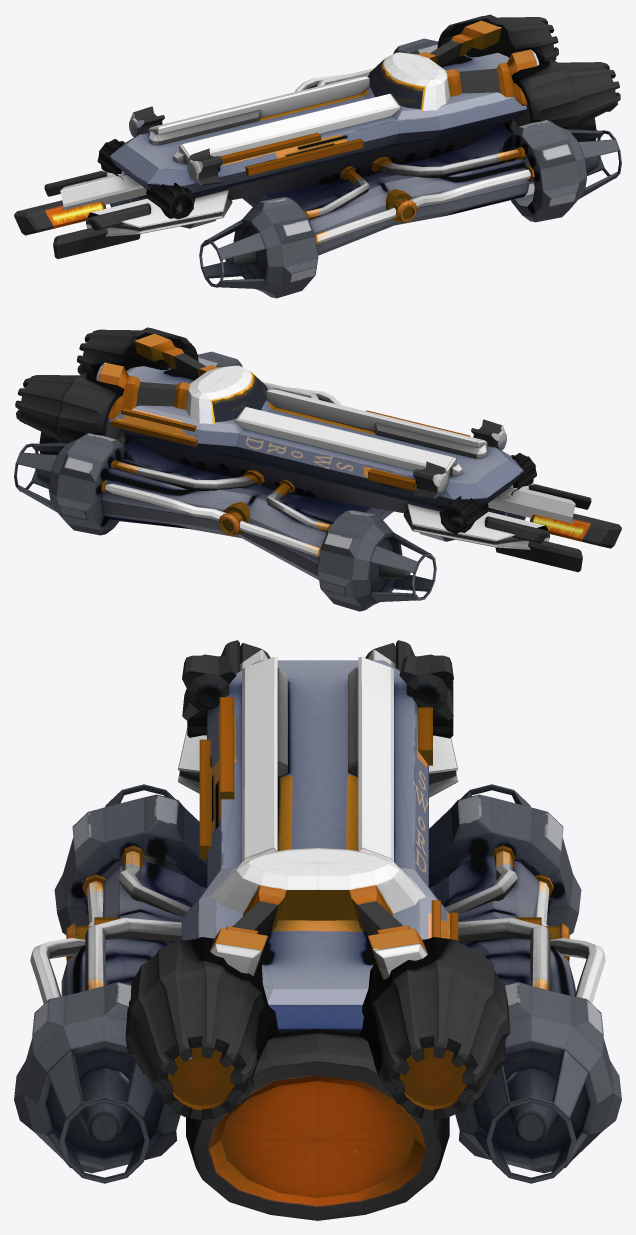
File: sword 1.fbx
The picture shows the model from 3 angles, top to bottom: view 1: azimuth 30°, elevation 25°; view 2: azimuth 150°, elevation 25°; view 3: azimuth 270°, elevation 25°; orthographic projection. The views are drawn at different scales.
Visible parts, largest first — view 1: polySurface9; view 2: polySurface9; view 3: polySurface9.
Part boxes in pixels (left/top/right/bottom): polySurface9: left=14, top=14, right=621, bottom=298; polySurface9: left=14, top=327, right=621, bottom=611; polySurface9: left=14, top=640, right=621, bottom=1220.
Bounding box in the file's own units: 191 × 50.38 × 98.19.
